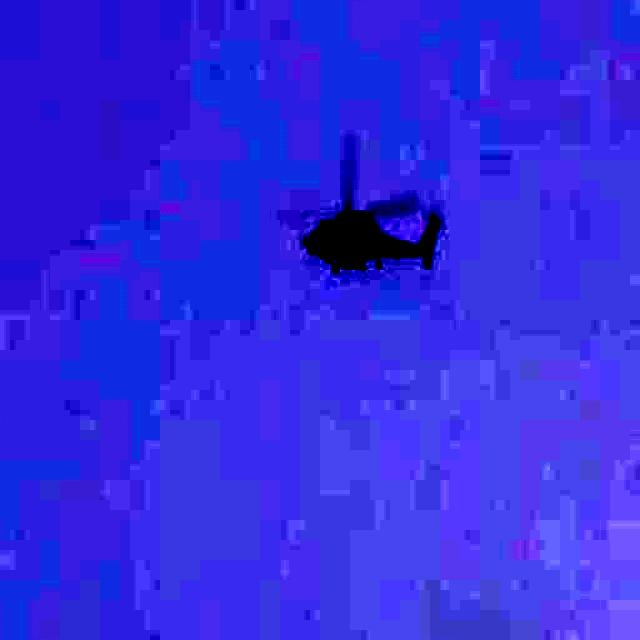drone: (288, 136, 451, 322)
